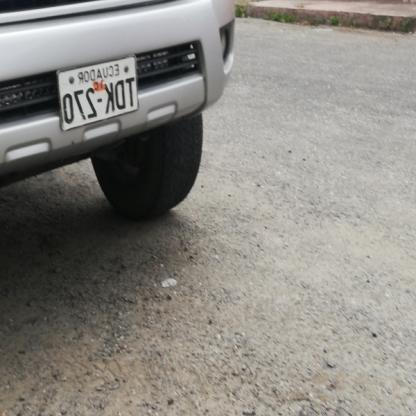Placa: (58, 48, 138, 135)
